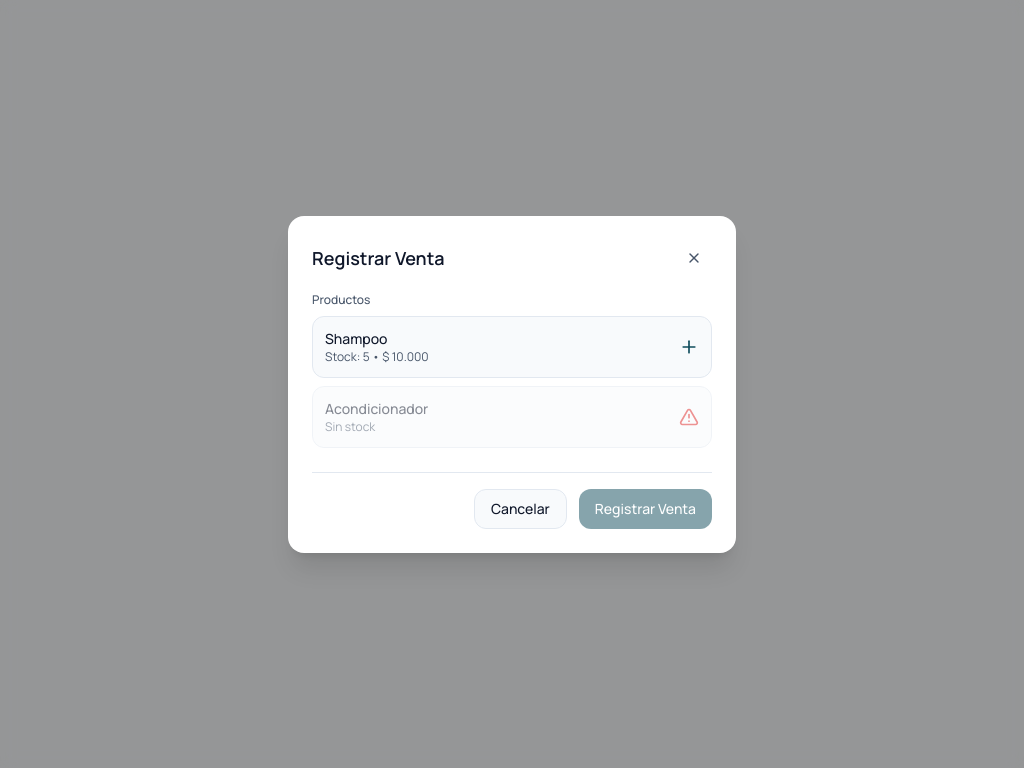
Test: SaleModal › elimina producto del carrito al hacer clic en - con cantidad 1
What coordinates should you click on to do the following:
click the button "Shampoo Stock: 5 • $ 10.000"
I would click on:
 (356, 338)
Its box is [312,316,712,378].
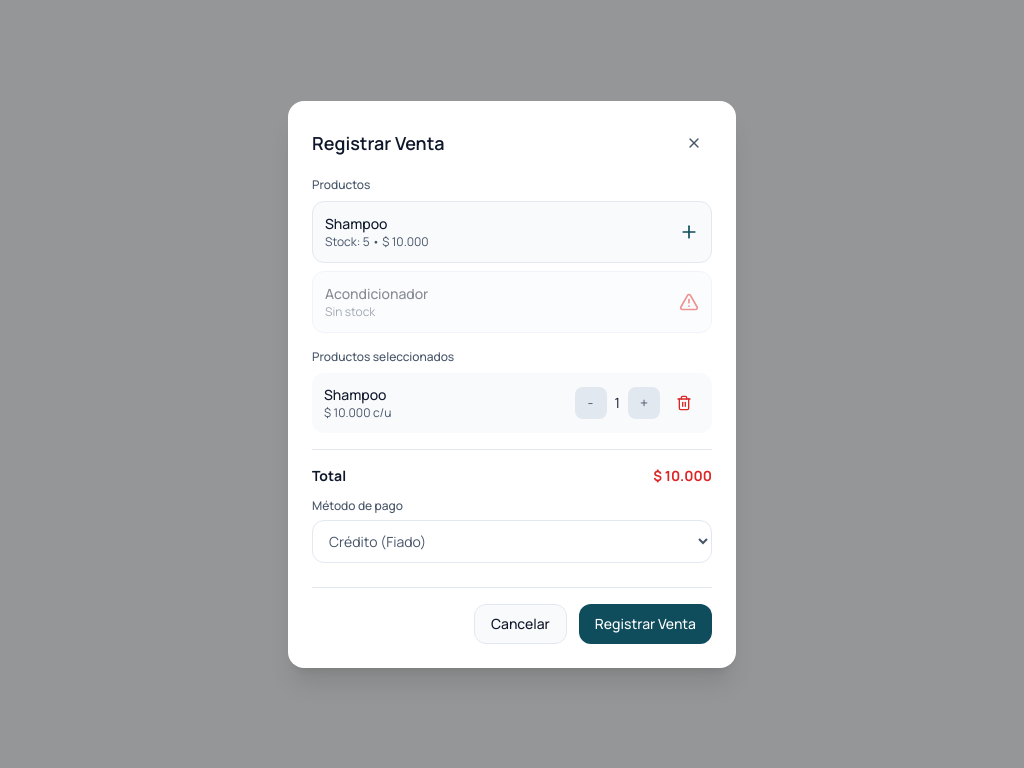
What coordinates should you click on to do the following:
click the button "-"
I would click on:
 (590, 402)
Its box is [574,386,606,418].
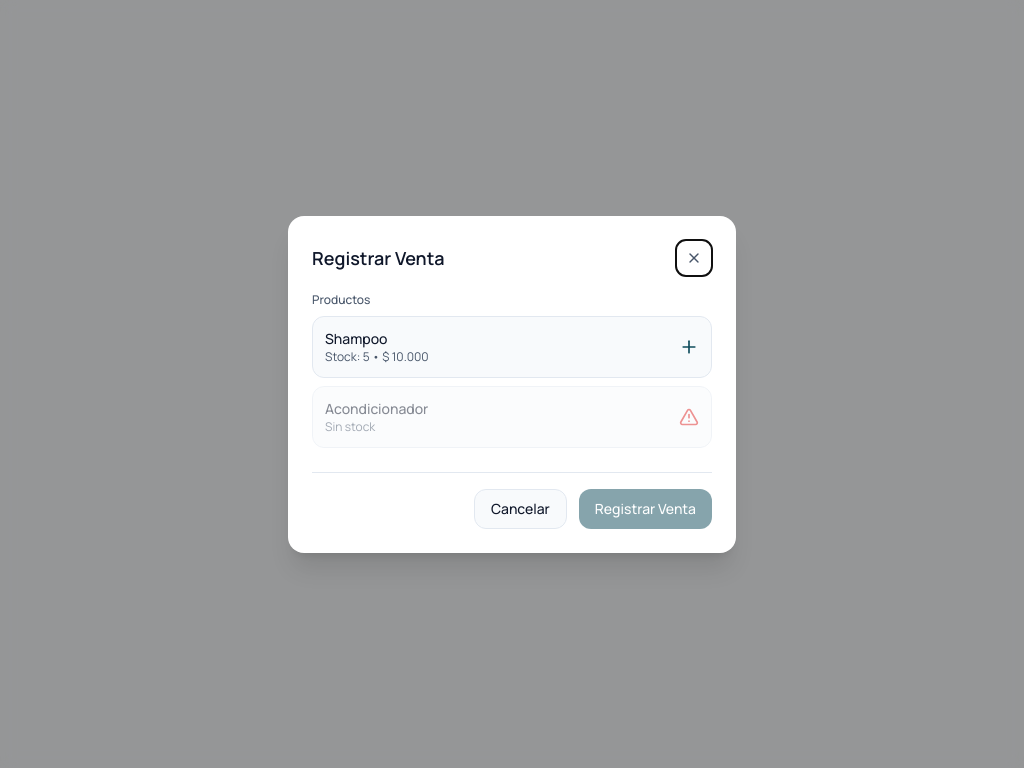
Now the text "Total" is gone
